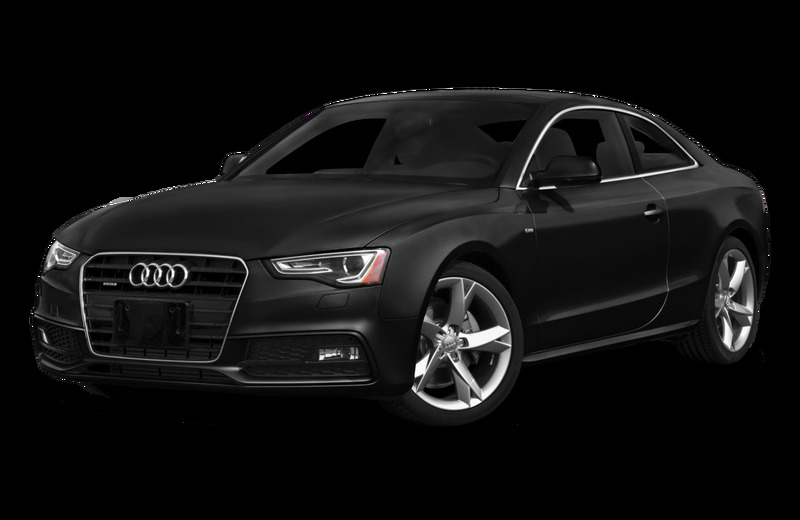audi: (11, 79, 781, 426)
